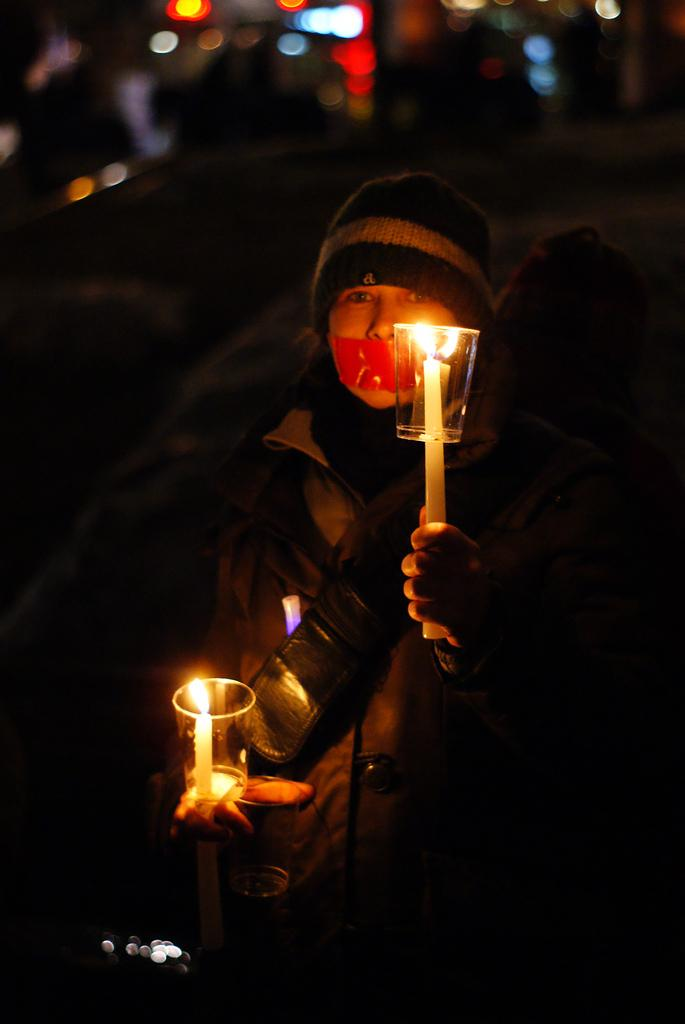fire: (175, 680, 220, 712), (412, 320, 458, 350)
